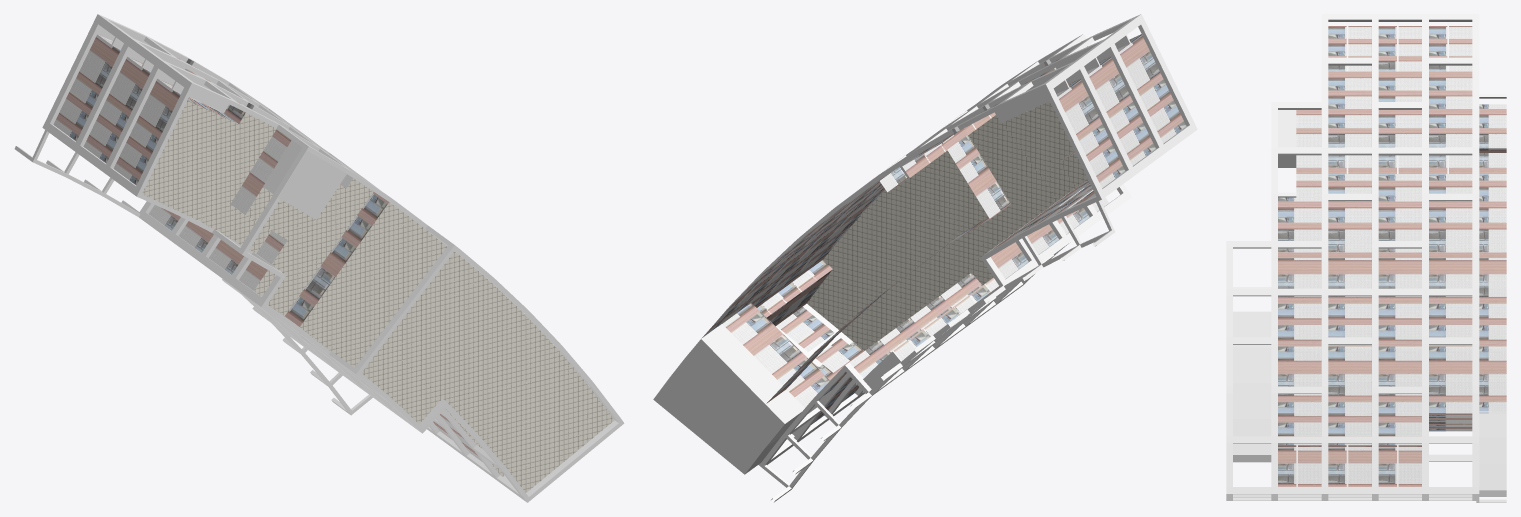
The picture shows the model from 3 angles, left to right: view 1: azimuth 30°, elevation 25°; view 2: azimuth 150°, elevation 25°; view 3: azimuth 270°, elevation 25°; orthographic projection. The views are drawn at different scales.
Visible parts, largest first — view 1: 教师宿舍 1.2, 教师宿舍 1.1, 教师宿舍 1简化1.003, 教师宿舍 1.4, 教师宿舍 1.6, 教师宿舍 1.5; view 2: 教师宿舍 1.2, 教师宿舍 1简化1.003, 教师宿舍 1.4, 教师宿舍 1.5, 教师宿舍 1.6, 教师宿舍 1.008; view 3: 教师宿舍 1.2, 教师宿舍 1简化1.003, 教师宿舍 1.4, 教师宿舍 1.5.
Part boxes in pixels (<box>): 教师宿舍 1.2: <box>53,34,504,476</box>; 教师宿舍 1.1: <box>361,251,614,492</box>; 教师宿舍 1简化1.003: <box>42,14,624,502</box>; 教师宿舍 1.4: <box>263,140,550,341</box>; 教师宿舍 1.6: <box>31,130,372,415</box>; 教师宿舍 1.5: <box>97,26,228,112</box>; 教师宿舍 1.2: <box>701,34,1186,435</box>; 教师宿舍 1简化1.003: <box>716,14,1197,468</box>; 教师宿舍 1.4: <box>653,101,1052,474</box>; 教师宿舍 1.5: <box>761,35,1130,388</box>; 教师宿舍 1.6: <box>763,200,1115,490</box>; 教师宿舍 1.008: <box>770,230,1113,502</box>; 教师宿舍 1.2: <box>1278,26,1506,486</box>; 教师宿舍 1简化1.003: <box>1226,14,1479,500</box>; 教师宿舍 1.4: <box>1233,110,1506,496</box>; 教师宿舍 1.5: <box>1296,22,1448,486</box>.
Bounding box in the file's own units: 56.05 × 55.89 × 36.8.
Materials: 4 (2 with a texture image).
